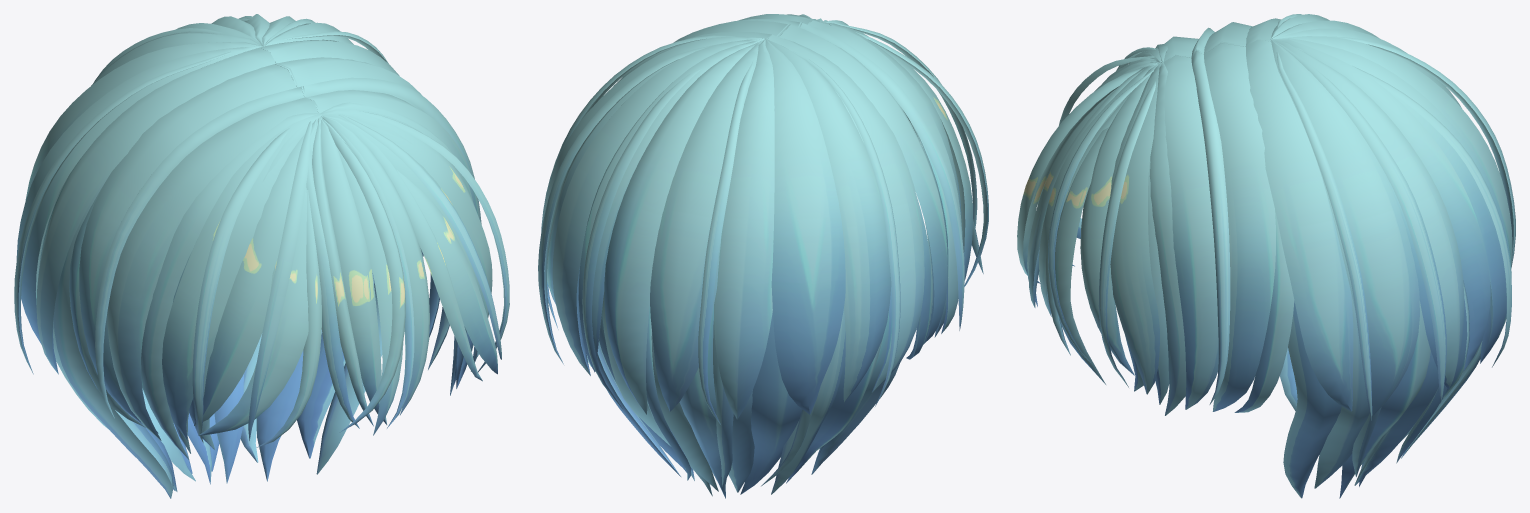
Rendered from vroid_hair_m2.glb.
3 views of the same model, side by side, from view 1: azimuth 30°, elevation 25°; view 2: azimuth 150°, elevation 25°; view 3: azimuth 270°, elevation 25° (orthographic). The views are drawn at different scales.
Parts seen in each view (by area): view 1: hair; view 2: hair; view 3: hair.
Boxes of the visible parts, x1,y1,x2,y2 form: hair: [14, 14, 509, 498]; hair: [538, 14, 988, 498]; hair: [1017, 14, 1515, 498].
Bounding box in the file's own units: 0.1862 × 0.2148 × 0.2181.
Materials: 4 (4 with a texture image).
